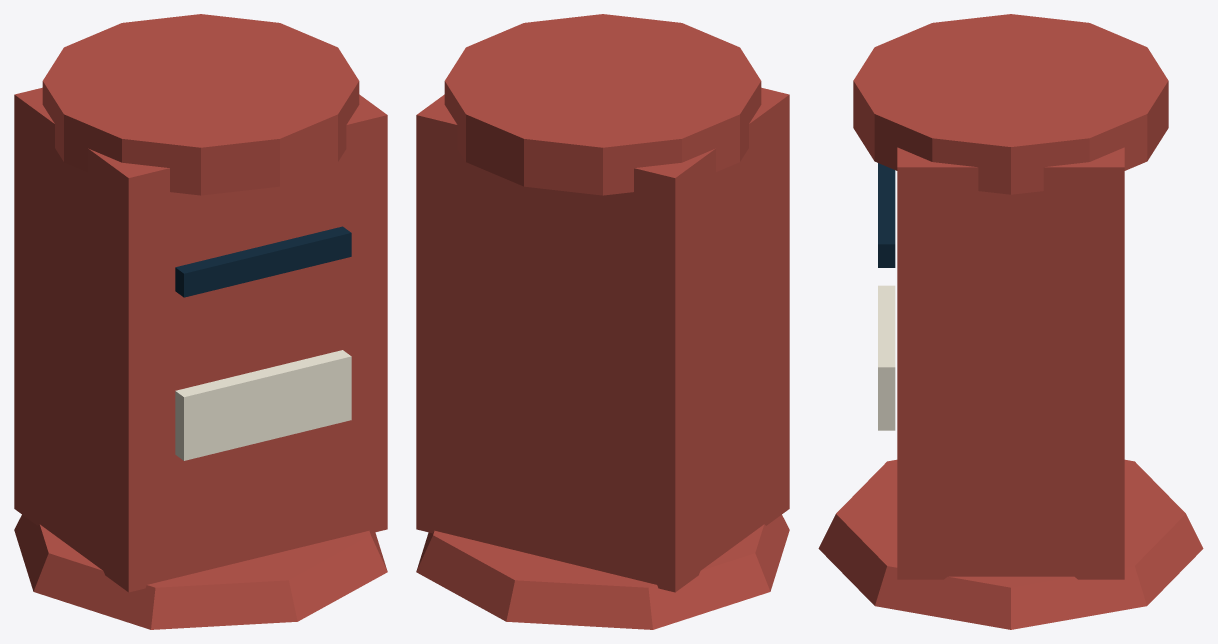
File: mailbox.glb
3 views of the same model, side by side, from view 1: azimuth 30°, elevation 25°; view 2: azimuth 150°, elevation 25°; view 3: azimuth 270°, elevation 25° (orthographic).
Parts seen in each view (by area): view 1: MailboxMesh, LidMesh; view 2: MailboxMesh, LidMesh; view 3: MailboxMesh, LidMesh.
Boxes of the visible parts, x1,y1,x2,y2 form: MailboxMesh: (14, 87, 387, 629); LidMesh: (42, 14, 359, 195); MailboxMesh: (416, 87, 789, 629); LidMesh: (444, 14, 761, 195); MailboxMesh: (818, 147, 1203, 629); LidMesh: (853, 14, 1168, 194).
Size of the model in its own units: 2.2 by 2.95 by 2.2.
1 material, 1 textured.
